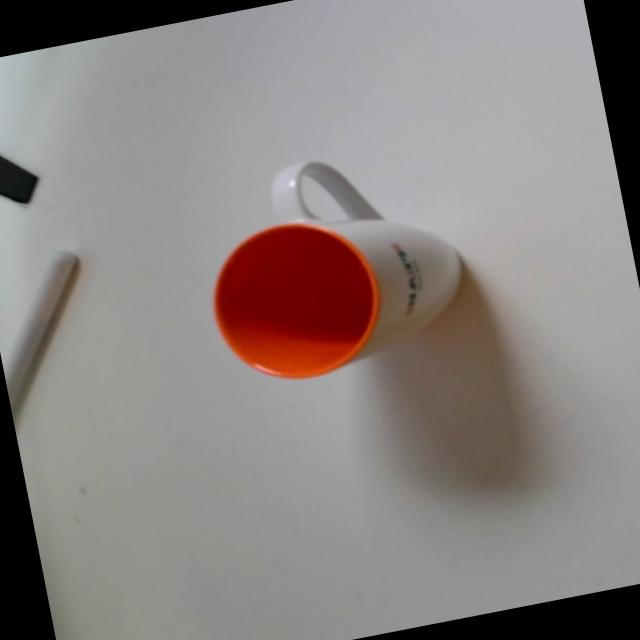White Cup: (182, 130, 484, 402)
